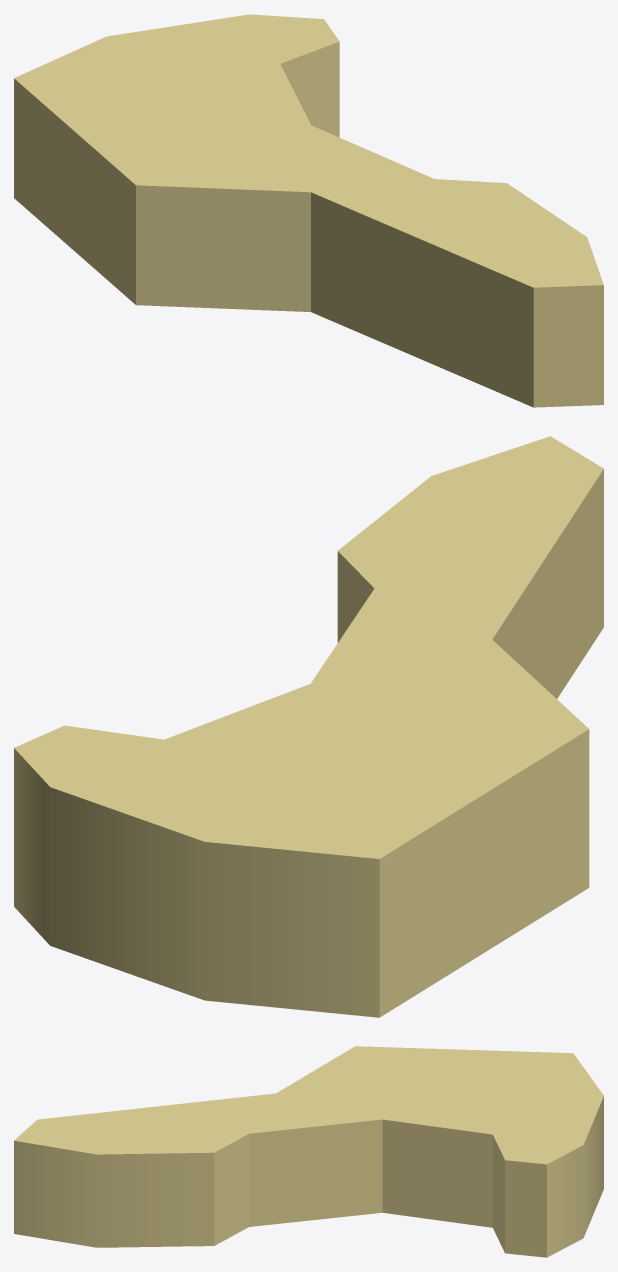
File: pingtung.glb
3 renders of one model, top to bottom at view 1: azimuth 30°, elevation 25°; view 2: azimuth 150°, elevation 25°; view 3: azimuth 270°, elevation 25°, orthographic. The views are drawn at different scales.
Visible parts, largest first — view 1: map_geo Pingtung_geo; view 2: map_geo Pingtung_geo; view 3: map_geo Pingtung_geo.
Part boxes in pixels (x1=…): map_geo Pingtung_geo: x1=14, y1=14, x2=603, y2=407; map_geo Pingtung_geo: x1=14, y1=436, x2=603, y2=1017; map_geo Pingtung_geo: x1=14, y1=1046, x2=603, y2=1257.
Size of the model in its own units: 0.7558 by 0.2781 by 1.59.
Materials: 1 (1 with a texture image).
